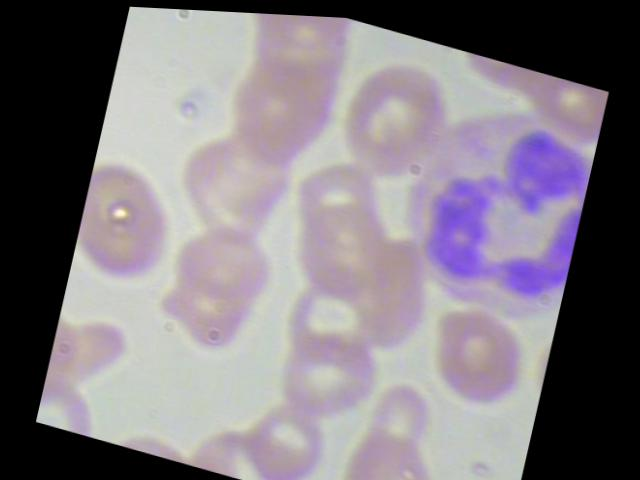White Blood Cells: (384, 80, 599, 326)
